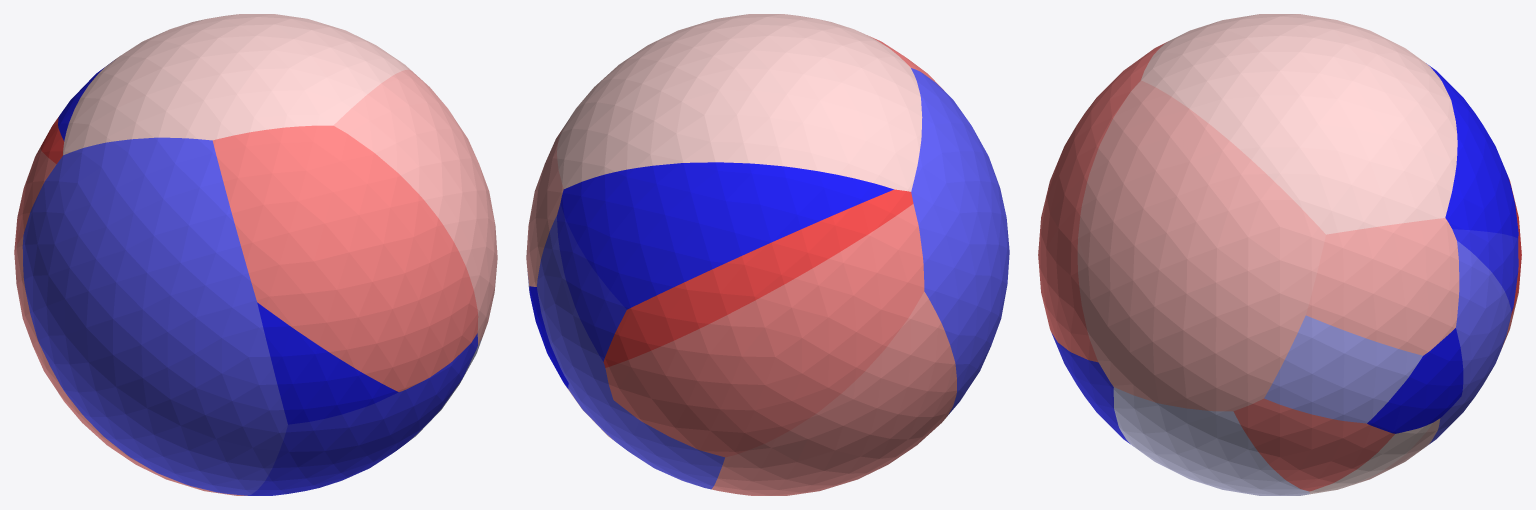
File: Tessellation3DTest.obj
The picture shows the model from 3 angles, left to right: view 1: azimuth 30°, elevation 25°; view 2: azimuth 150°, elevation 25°; view 3: azimuth 270°, elevation 25°; orthographic projection.
Visible parts, largest first — view 1: 3D_Object; view 2: 3D_Object; view 3: 3D_Object.
Part boxes in pixels (box(x1,y1,x2,y2)): 3D_Object: box(14, 14, 497, 495); 3D_Object: box(526, 14, 1009, 495); 3D_Object: box(1038, 14, 1521, 495).
Bounding box in the file's own units: 2 × 2 × 2.
Materials: 1 (1 with a texture image).
